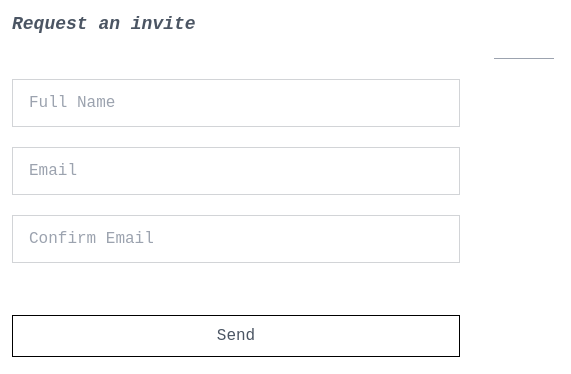
Scenario: SignupForm › should require full name to be at least 3 characters
The image size is (571, 374).
Type "Al" into the field with placeholder "Full Name" at (236, 103), box [12,79,460,127]
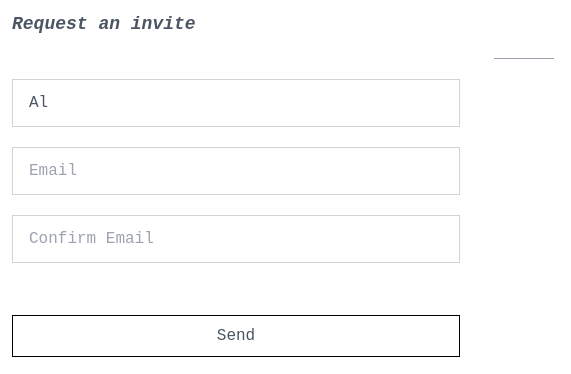
Click the button at (236, 336), box [12,315,460,357]
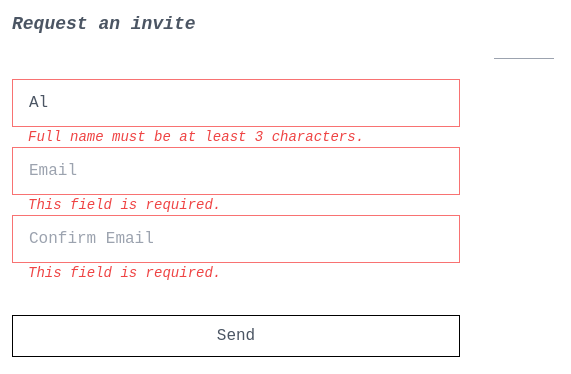
Result: the element with test id "fullName-input" shows "Full name must be at least 3 characters" at [28,129,364,145]
